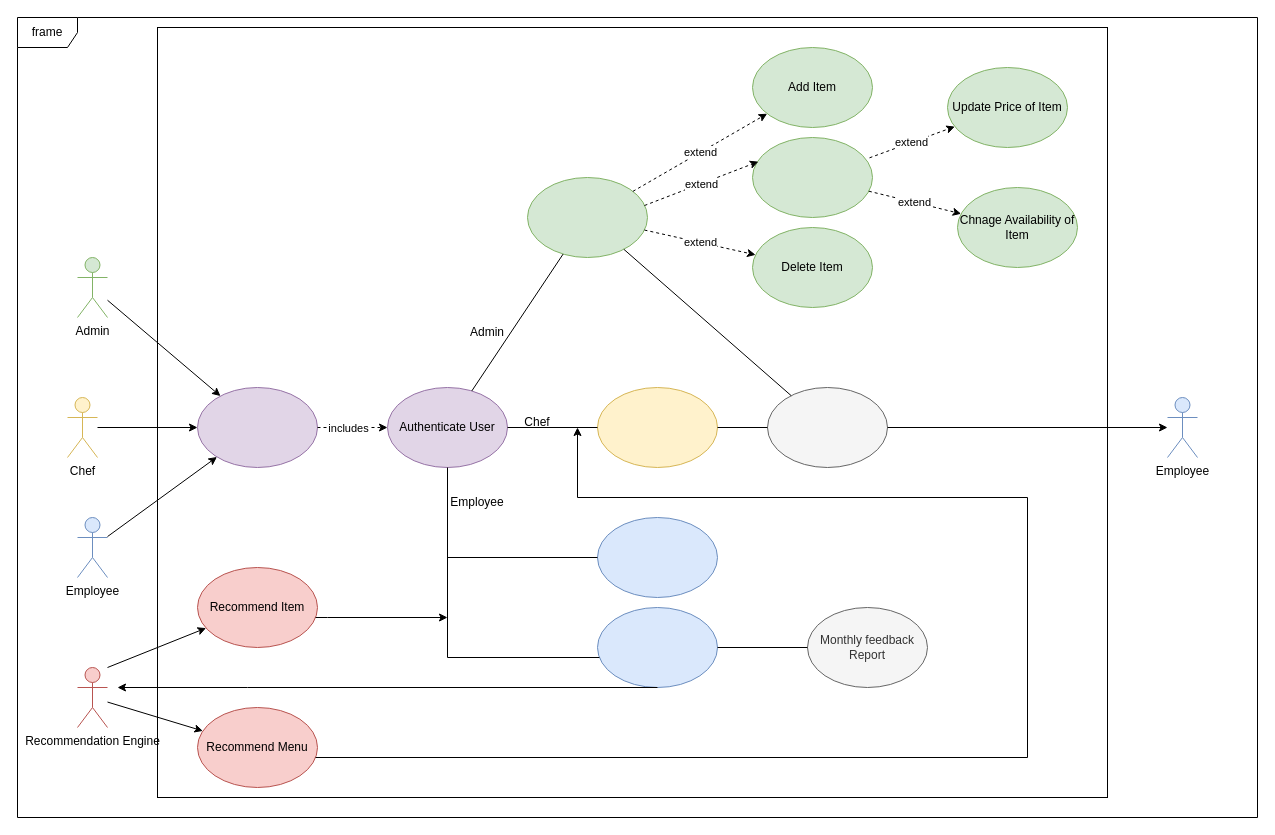
Some shapes in this 1275 by 835 pixel diagram are drawn without their labels. The centre of each missing label's shape, as x and y in pixels:
Feedback: (657,647)
Login: (257,427)
Manage Items: (587,217)
Notification: (827,427)
Rollout Daily Menu: (657,427)
Select Item: (657,557)
Update Item: (812,177)
